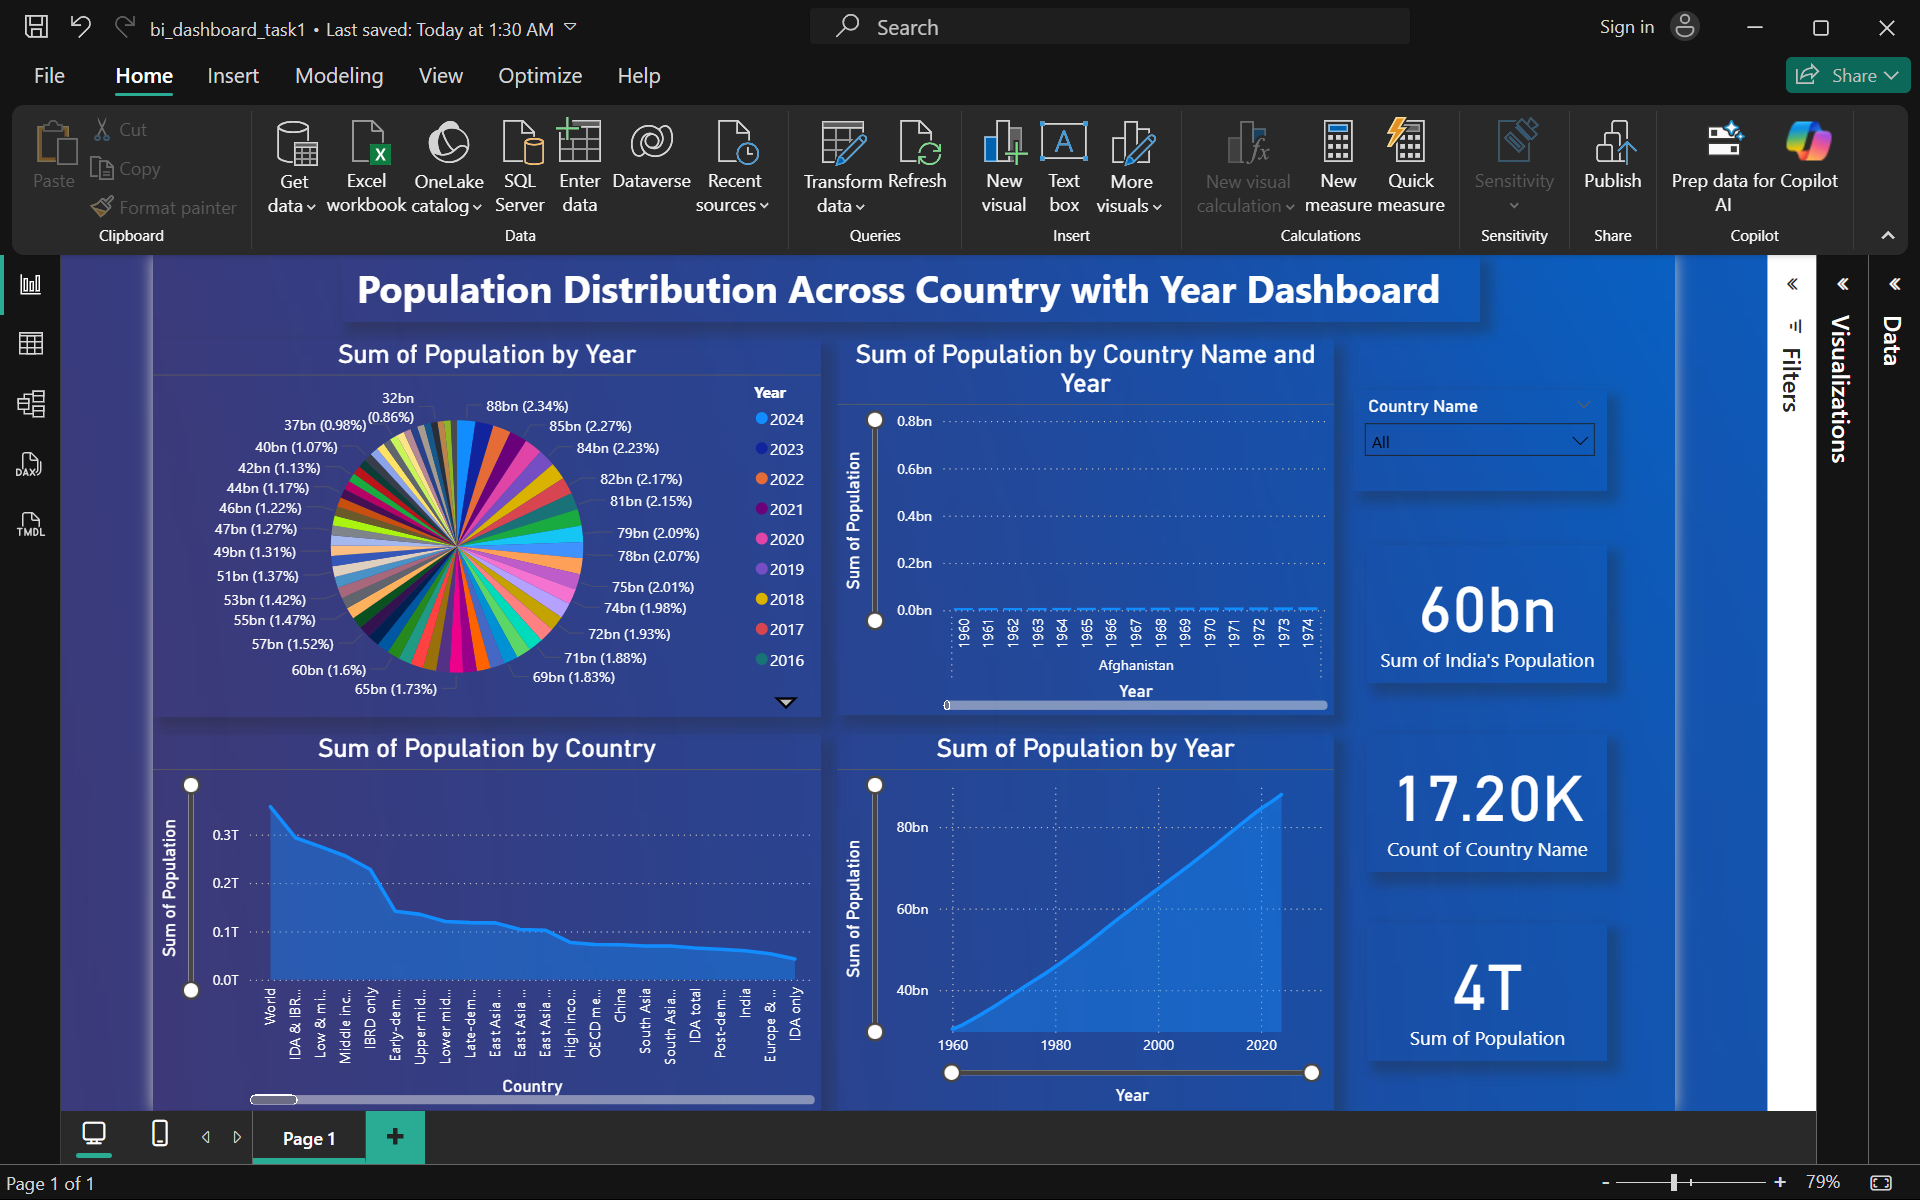

The page's visual inventory and layout, read from the dashboard file:
{"tool":"powerbi","page":{"name":"Page 1","canvas":[1280,720],"ordinal":0},"visuals":[{"type":"textbox","box":[157.5,0,958.5,56],"z":0},{"type":"areaChart","fields":{"Category":["CLEANED_TASK1.Country Name"],"Y":["Sum(CLEANED_TASK1.Population)"]},"box":[0,402.8,561.8,316.5],"z":1000},{"type":"card","fields":{"Values":["Sum(CLEANED_TASK1.Population)"]},"box":[1020.6,561.8,202.9,116.6],"z":2000},{"type":"card","fields":{"Values":["CountNonNull(CLEANED_TASK1.Country Name)"]},"box":[1020.6,402.8,202.9,116.6],"z":3000},{"type":"areaChart","fields":{"Category":["CLEANED_TASK1.Year"],"Y":["Sum(CLEANED_TASK1.Population)"]},"box":[575.4,402.8,417.9,316.5],"z":4000},{"type":"pieChart","fields":{"Category":["CLEANED_TASK1.Year"],"Y":["Sum(CLEANED_TASK1.Population)"]},"box":[0,71.2,561.8,318],"z":5000},{"type":"card","fields":{"Values":["Sum(India_data.Population)"]},"box":[1020.6,243.8,202.9,116.6],"z":6001},{"type":"slicer","fields":{"Values":["CLEANED_TASK1.Country Name"]},"box":[1010,113.6,213.5,84.8],"z":6002},{"type":"clusteredColumnChart","fields":{"Category":["CLEANED_TASK1.Country Name","CLEANED_TASK1.Year"],"Y":["Sum(CLEANED_TASK1.Population)"]},"box":[575.4,71.2,417.9,316.5],"z":6003}]}

Visuals, with their boxes on the page's 1280x720 design canvas (x1, y1, x2, y2). These are canvas units, not pixel positions in the 1920x1200 screenshot, which may show the page scaled, cropped or inside an application window:
textbox: locate(158, 0, 1116, 56)
areaChart - CLEANED_TASK1.Country Name x Sum(CLEANED_TASK1.Population): locate(0, 403, 562, 719)
card - Sum(CLEANED_TASK1.Population): locate(1021, 562, 1224, 678)
card - CountNonNull(CLEANED_TASK1.Country Name): locate(1021, 403, 1224, 519)
areaChart - CLEANED_TASK1.Year x Sum(CLEANED_TASK1.Population): locate(575, 403, 993, 719)
pieChart - CLEANED_TASK1.Year x Sum(CLEANED_TASK1.Population): locate(0, 71, 562, 389)
card - Sum(India_data.Population): locate(1021, 244, 1224, 360)
slicer - CLEANED_TASK1.Country Name: locate(1010, 114, 1224, 198)
clusteredColumnChart - CLEANED_TASK1.Country Name x CLEANED_TASK1.Year: locate(575, 71, 993, 388)
